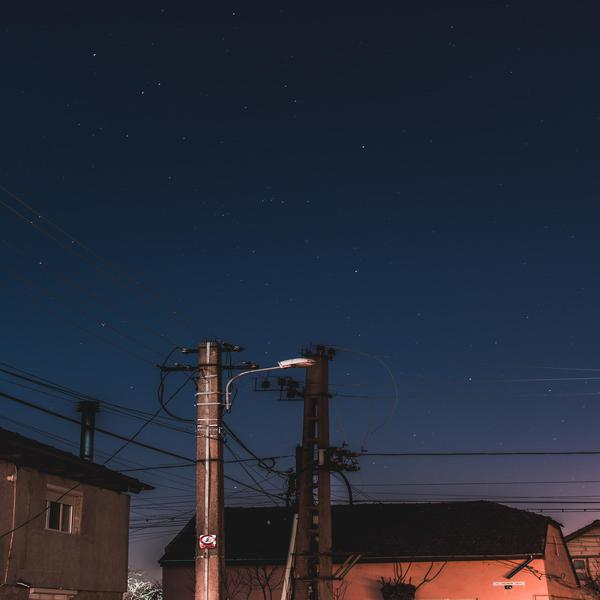utility_pole: (152, 328, 263, 439), (275, 332, 353, 434)
